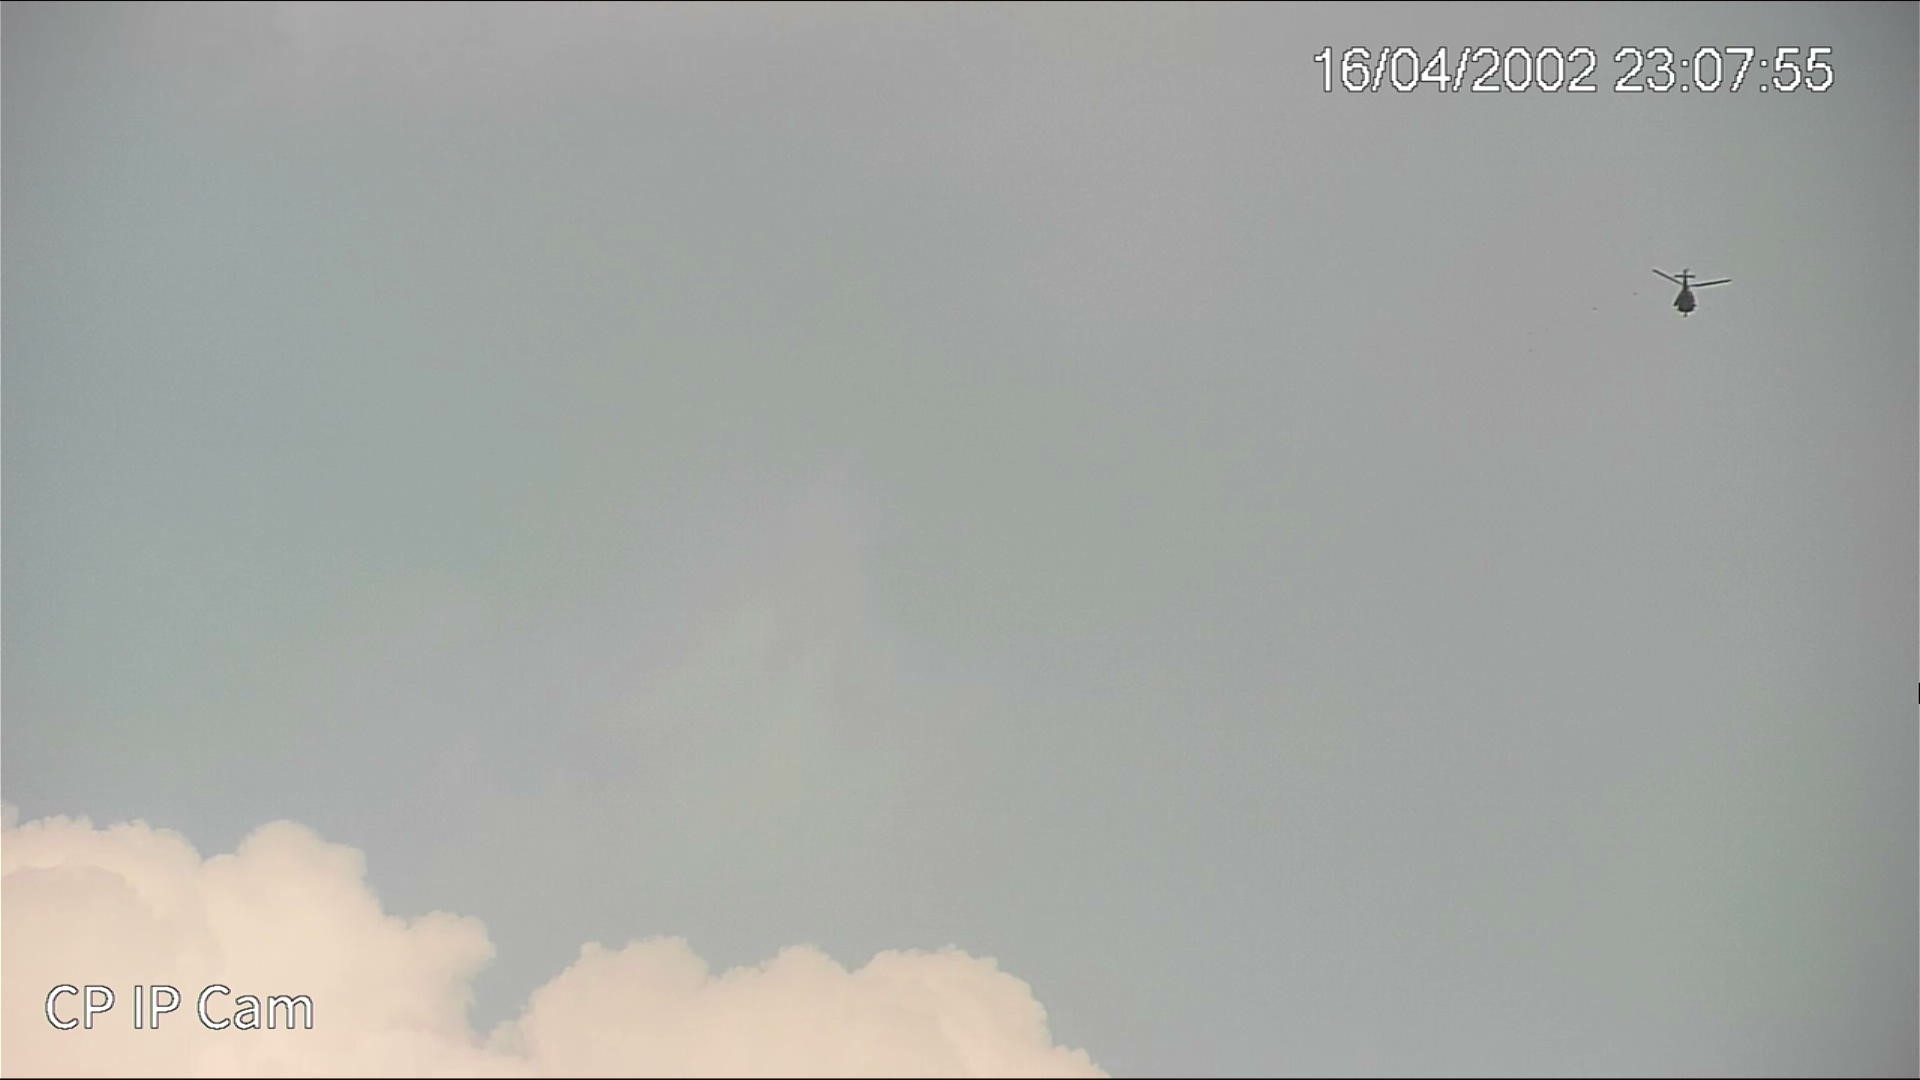SU_30: (1648, 268, 1735, 315)
